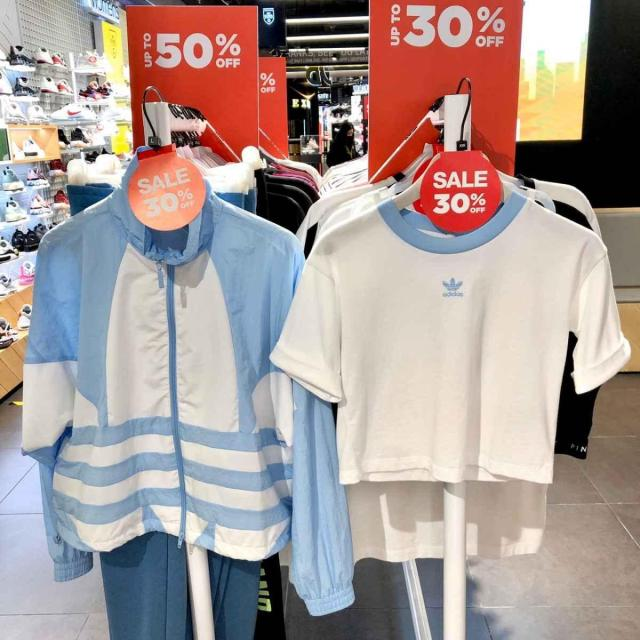Tshirt: (283, 191, 611, 479)
jacket: (26, 199, 327, 557)
